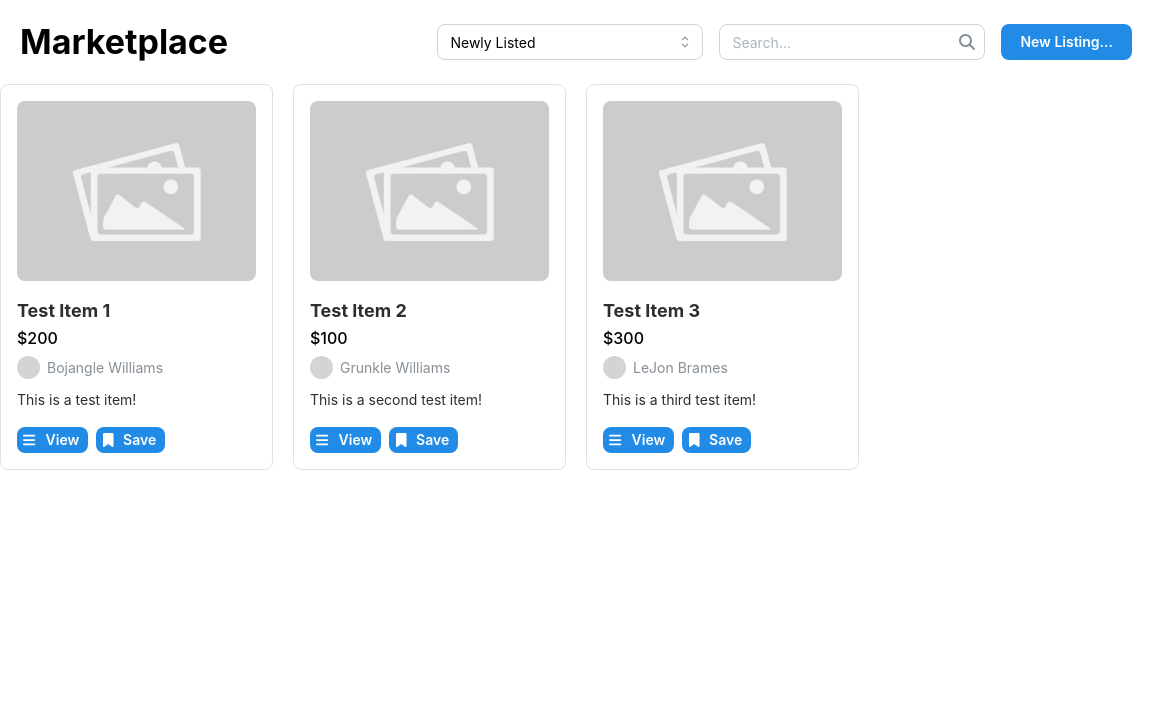
MarketplacePage › Listing modal can be viewed correctly
The image size is (1152, 720).
Expected: the link "Test Item 1" is shown, [17,297,110,325]
Click the button with test id "view-button" below "This is a test item!". click: point(53, 440)
box: [17,427,88,453]
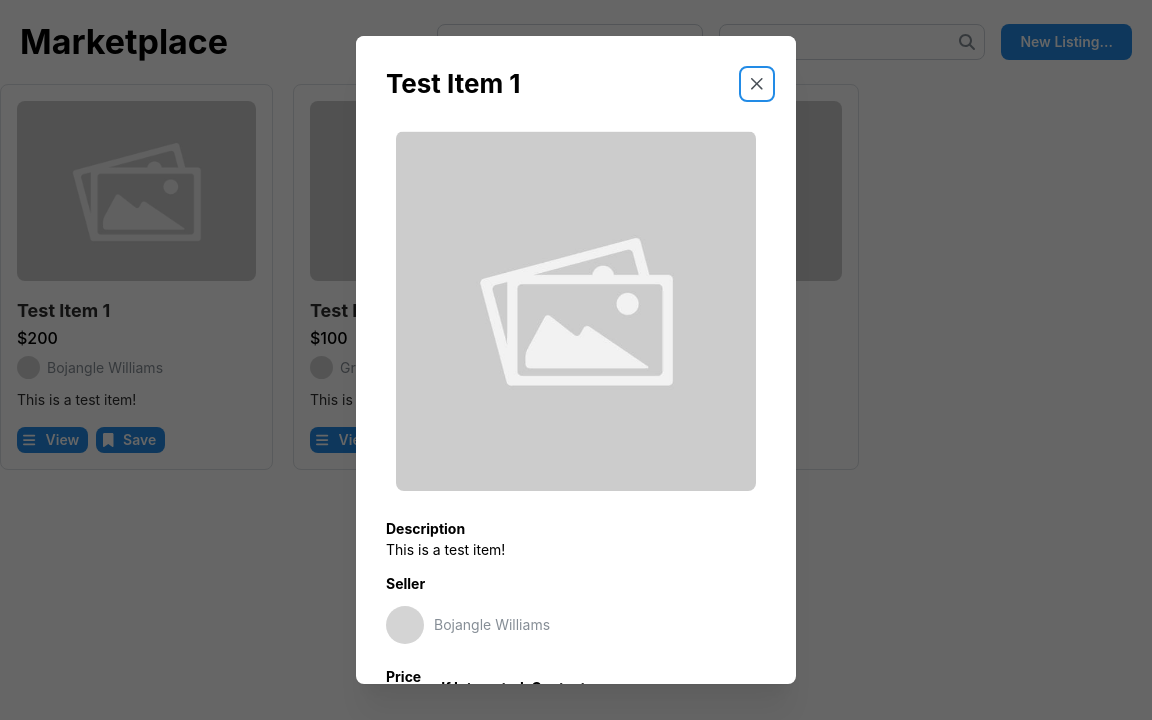
Expected: the text "Test Item 1" is shown, [386,66,521,101]
Expected: the text "Bojangle Williams" is shown, [434,615,550,635]
Expected: the text "This is a test item!" is shown, [386,541,505,558]
